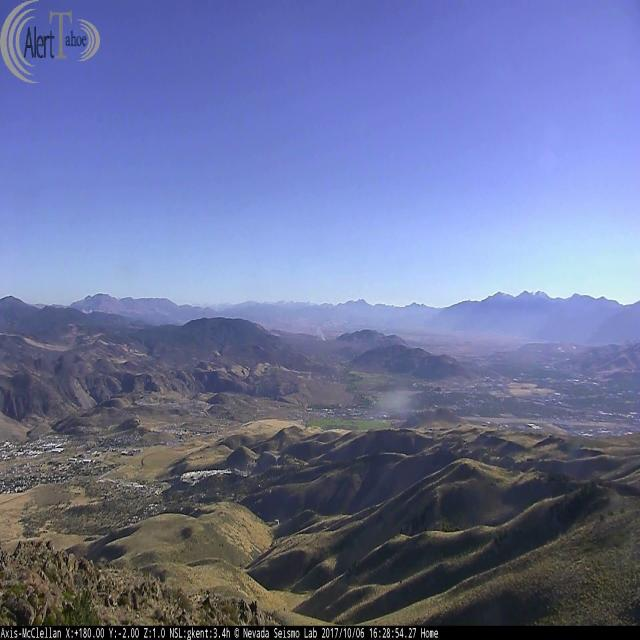smoke: (310, 322, 326, 342)
